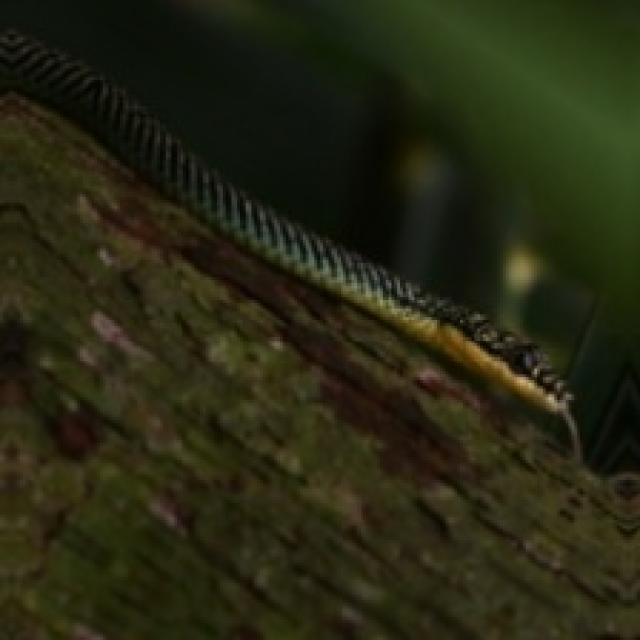paradise tree snake: (0, 29, 580, 460)
